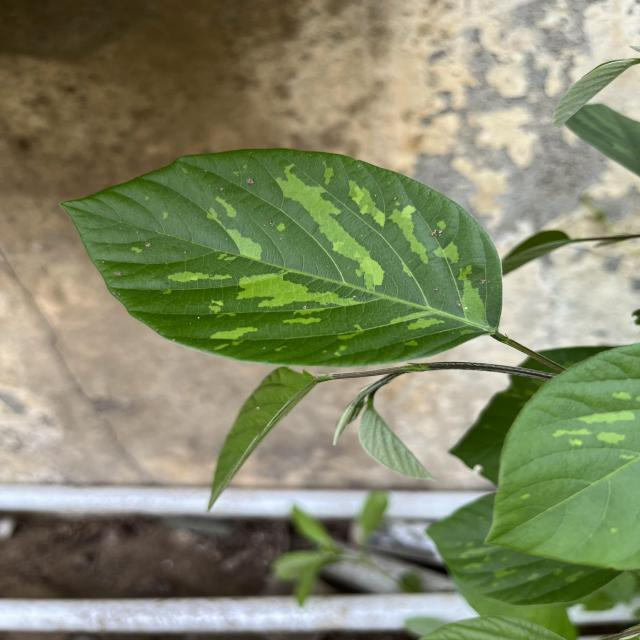Desmodium gangeticum: (54, 143, 509, 371)
